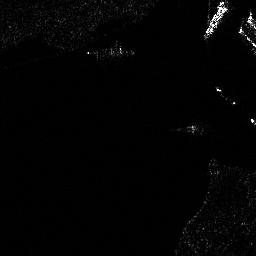ship: (200, 2, 228, 41)
